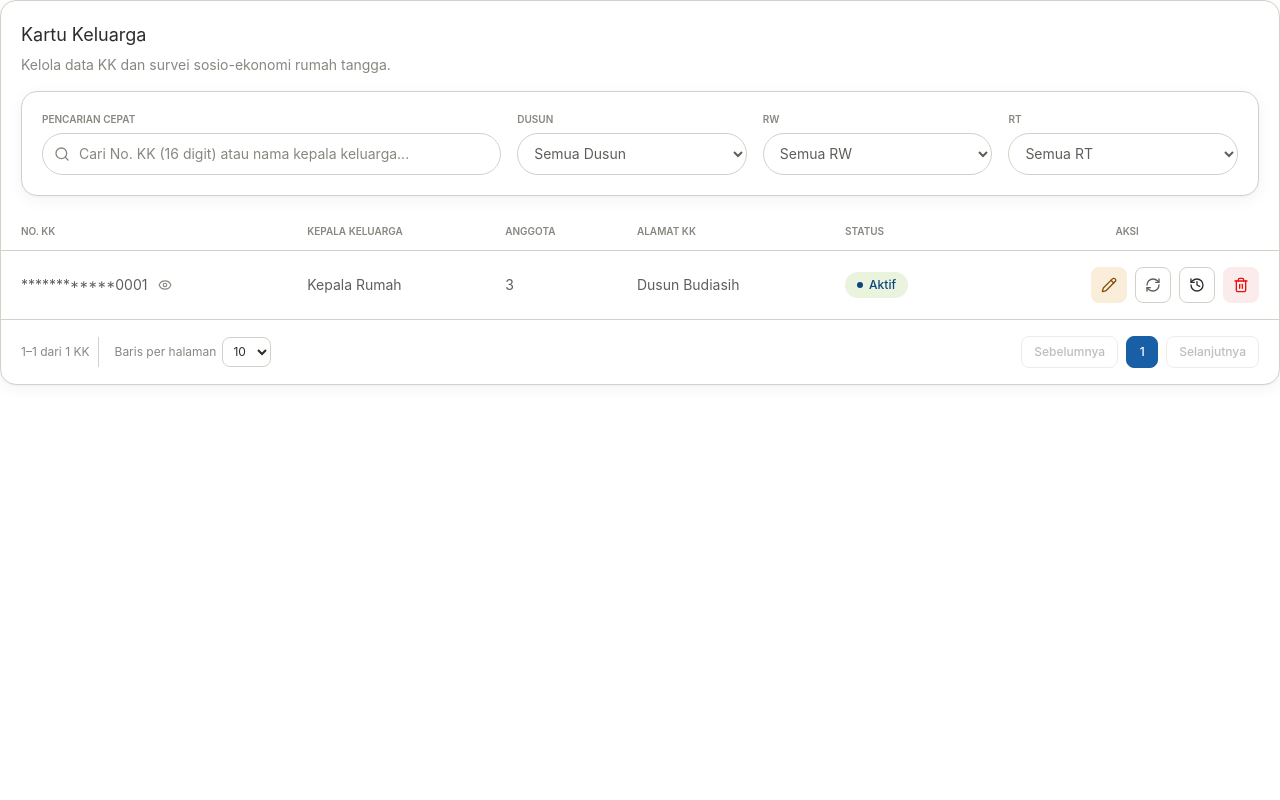
Scenario: FamilyManagementPanel › lists the family members when editing a family
Click the button named "Edit KK".
click(1109, 285)  # box [1091,267,1127,303]
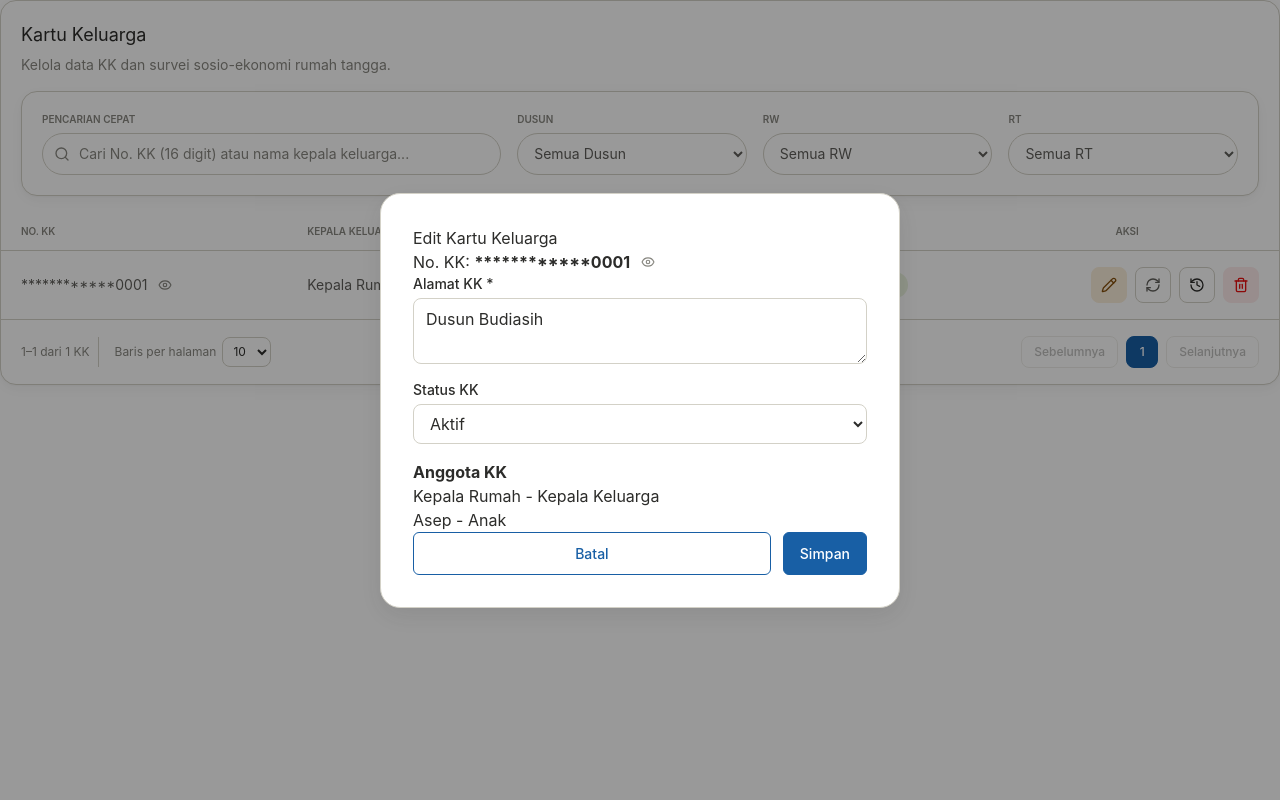
Check: the text "Anggota KK" is shown, box [413,462,507,482]
Check: the list item "Asep - Anak" is shown, box [413,510,506,530]
